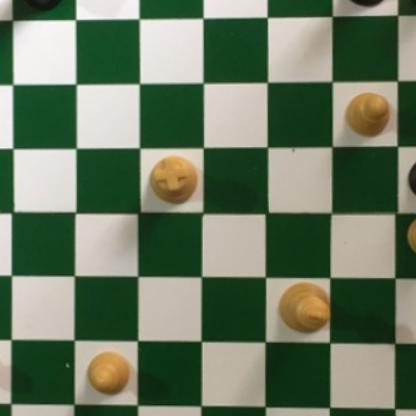black-bishop: (408, 0, 416, 2)
black-king: (338, 0, 403, 11)
black-pawn: (405, 155, 416, 200)
black-rook: (6, 0, 64, 10)
white-king: (275, 281, 331, 339)
white-pawn: (83, 347, 133, 396), (344, 91, 394, 138), (405, 211, 416, 261), (0, 340, 2, 386)
white-rook: (146, 151, 198, 204)
